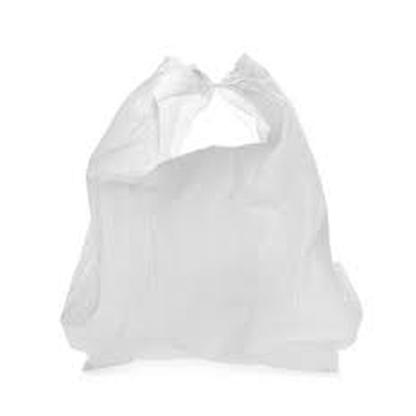plastic bag: (54, 44, 360, 372)
